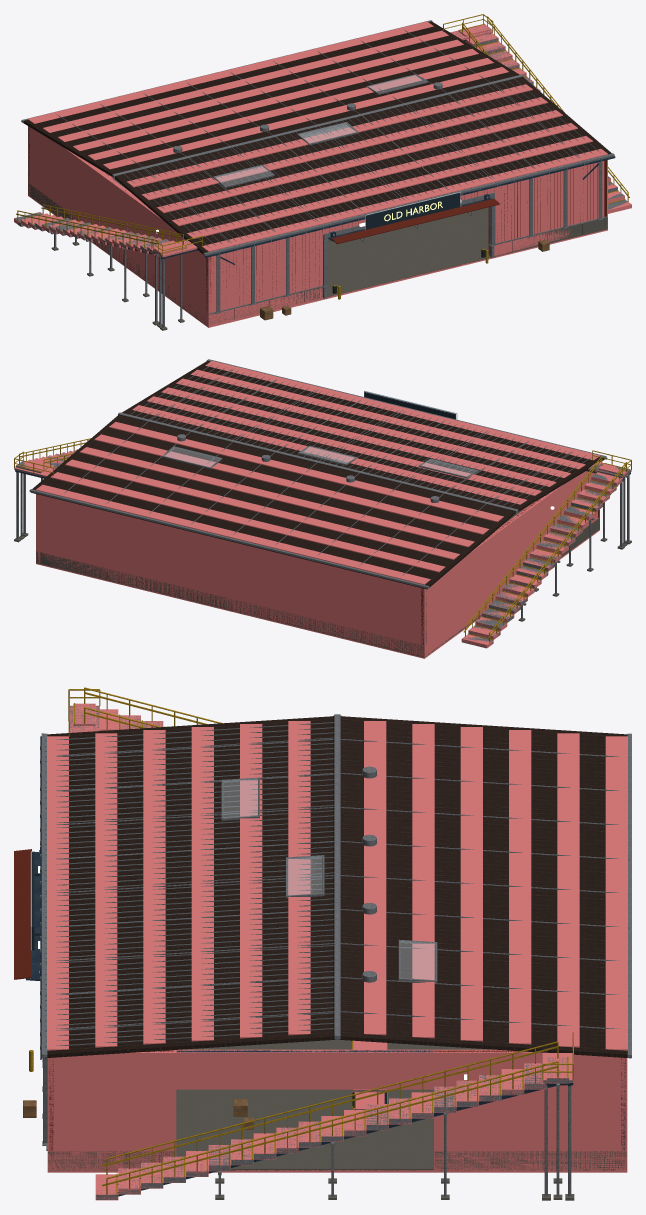
Rendered from warehouse.glb.
The picture shows the model from 3 angles, top to bottom: view 1: azimuth 30°, elevation 25°; view 2: azimuth 150°, elevation 25°; view 3: azimuth 270°, elevation 25°; orthographic projection. The views are drawn at different scales.
Parts seen in each view (by area): view 1: MESH_WAREHOUSE_ROOF_DARK_LOD0, COL_MOVE_WALL_LEFT, MESH_WAREHOUSE_CONCRETE_LOD0, MESH_WAREHOUSE_RP01_GALVANIZED_LOD0, COL_MOVE_WALL_FRONT_L, MESH_WAREHOUSE_GALVANIZED_LOD0, COL_MOVE_WALL_FRONT_R, COL_MOVE_ROOF_02, COL_MOVE_ROOF_03, COL_MOVE_ROOF_01, COL_MOVE_ROOF_00, COL_MOVE_ROOF_05 (+15 smaller); view 2: MESH_WAREHOUSE_ROOF_DARK_LOD0, COL_MOVE_WALL_BACK, COL_MOVE_WALL_LEFT, MESH_WAREHOUSE_GALVANIZED_LOD0, MESH_WAREHOUSE_RP01_GALVANIZED_LOD0, MESH_WAREHOUSE_CONCRETE_LOD0, COL_MOVE_ROOF_09, COL_MOVE_ROOF_10, COL_MOVE_ROOF_08, COL_MOVE_ROOF_11, COL_MOVE_ROOF_07, COL_MOVE_ROOF_06 (+12 smaller); view 3: MESH_WAREHOUSE_ROOF_DARK_LOD0, MESH_WAREHOUSE_RP01_GALVANIZED_LOD0, MESH_WAREHOUSE_CONCRETE_LOD0, MESH_WAREHOUSE_GALVANIZED_LOD0, COL_MOVE_WALL_RIGHT_BACK, COL_MOVE_WALL_RIGHT_FRONT, COL_MOVE_WALL_RIGHT_HEADER, COL_MOVE_ROOF_08, COL_MOVE_ROOF_09, COL_MOVE_ROOF_11, COL_MOVE_ROOF_10, COL_MOVE_ROOF_07 (+17 smaller).
Boxes of the visible parts, <box> form: MESH_WAREHOUSE_ROOF_DARK_LOD0: <box>23,21,611,254</box>; COL_MOVE_WALL_LEFT: <box>28,128,212,325</box>; MESH_WAREHOUSE_CONCRETE_LOD0: <box>28,175,607,325</box>; MESH_WAREHOUSE_RP01_GALVANIZED_LOD0: <box>124,78,614,314</box>; COL_MOVE_WALL_FRONT_L: <box>206,229,325,325</box>; MESH_WAREHOUSE_GALVANIZED_LOD0: <box>15,20,627,298</box>; COL_MOVE_WALL_FRONT_R: <box>488,160,607,256</box>; COL_MOVE_ROOF_02: <box>172,123,577,226</box>; COL_MOVE_ROOF_03: <box>157,110,562,213</box>; COL_MOVE_ROOF_01: <box>187,136,592,238</box>; COL_MOVE_ROOF_00: <box>202,149,607,251</box>; COL_MOVE_ROOF_05: <box>127,84,532,187</box>; MESH_WAREHOUSE_ROOF_DARK_LOD0: <box>31,360,604,589</box>; COL_MOVE_WALL_BACK: <box>36,494,426,656</box>; COL_MOVE_WALL_LEFT: <box>420,471,599,656</box>; MESH_WAREHOUSE_GALVANIZED_LOD0: <box>14,360,631,647</box>; MESH_WAREHOUSE_RP01_GALVANIZED_LOD0: <box>130,359,606,507</box>; MESH_WAREHOUSE_CONCRETE_LOD0: <box>36,510,599,657</box>; COL_MOVE_ROOF_09: <box>65,459,459,559</box>; COL_MOVE_ROOF_10: <box>50,472,445,572</box>; COL_MOVE_ROOF_08: <box>79,447,474,547</box>; COL_MOVE_ROOF_11: <box>36,484,430,584</box>; COL_MOVE_ROOF_07: <box>94,434,489,534</box>; COL_MOVE_ROOF_06: <box>109,422,503,522</box>; MESH_WAREHOUSE_ROOF_DARK_LOD0: <box>44,715,631,1058</box>; MESH_WAREHOUSE_RP01_GALVANIZED_LOD0: <box>29,722,334,1150</box>; MESH_WAREHOUSE_CONCRETE_LOD0: <box>48,1039,626,1170</box>; MESH_WAREHOUSE_GALVANIZED_LOD0: <box>43,703,631,1199</box>; COL_MOVE_WALL_RIGHT_BACK: <box>434,1049,627,1169</box>; COL_MOVE_WALL_RIGHT_FRONT: <box>47,1050,176,1169</box>; COL_MOVE_WALL_RIGHT_HEADER: <box>176,1049,433,1089</box>; COL_MOVE_ROOF_08: <box>460,727,482,1041</box>; COL_MOVE_ROOF_09: <box>509,730,531,1044</box>; COL_MOVE_ROOF_11: <box>605,736,627,1050</box>; COL_MOVE_ROOF_10: <box>557,733,579,1047</box>; COL_MOVE_ROOF_07: <box>412,724,434,1038</box>.
Size of what is drawn, in the model's own units: 55.3 by 9.9 by 38.37.
Materials: 14 (7 with a texture image).
